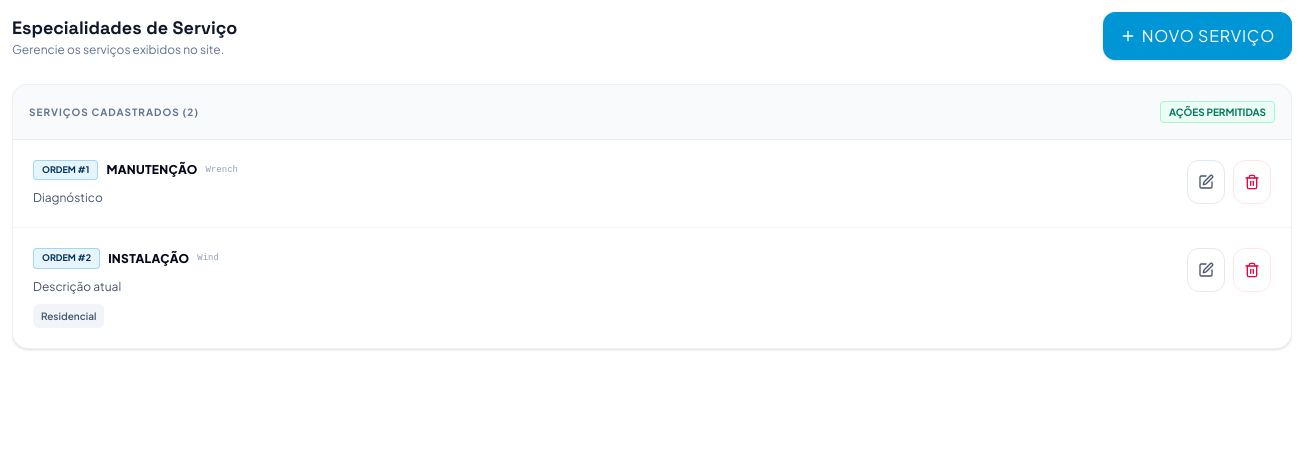
Test case: gerenciamento administrativo de serviços › mantém a lista e apresenta erro quando a operação falha
This screenshot has width=1304, height=469.
Click the button named "Excluir Instalação" at (1252, 270), box [1233,248,1271,292]
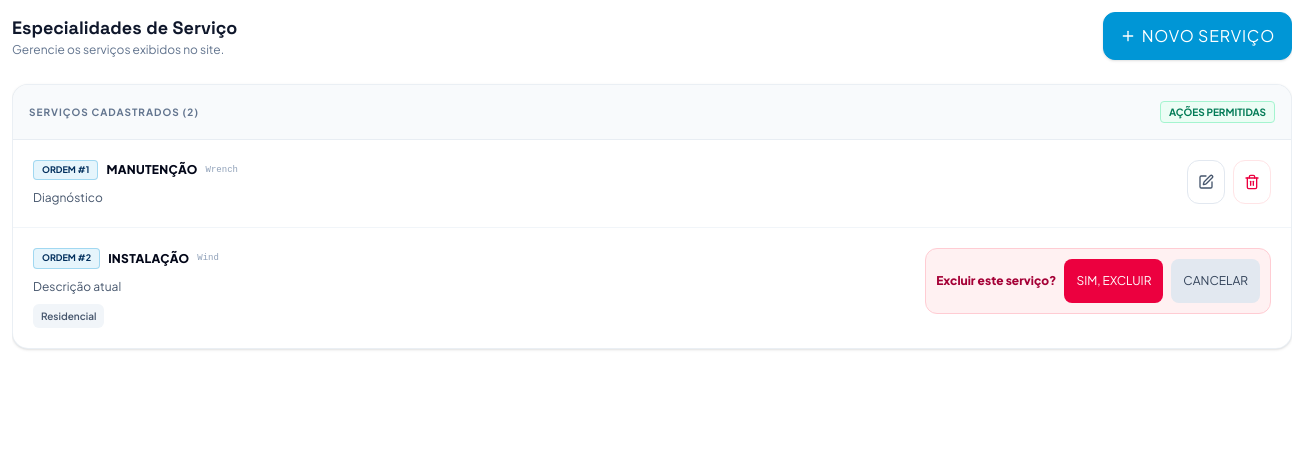
Click the button "Sim, excluir" at (1114, 282), box [1064,260,1163,304]
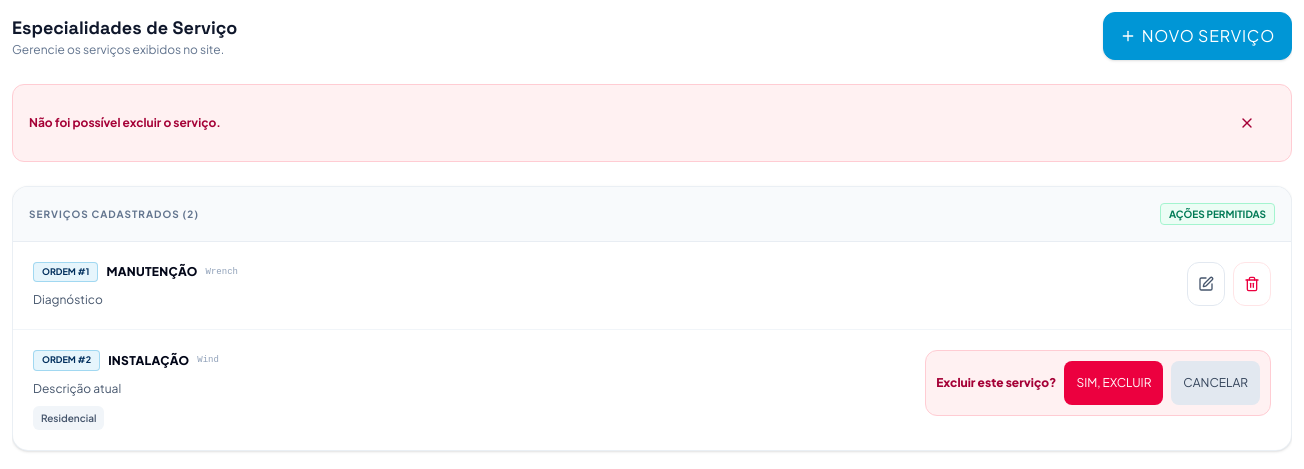
Expected: the heading "Instalação" is shown, [108,353,189,369]
Expected: the message reads "Não foi possível excluir o serviço.", [29,115,221,130]
